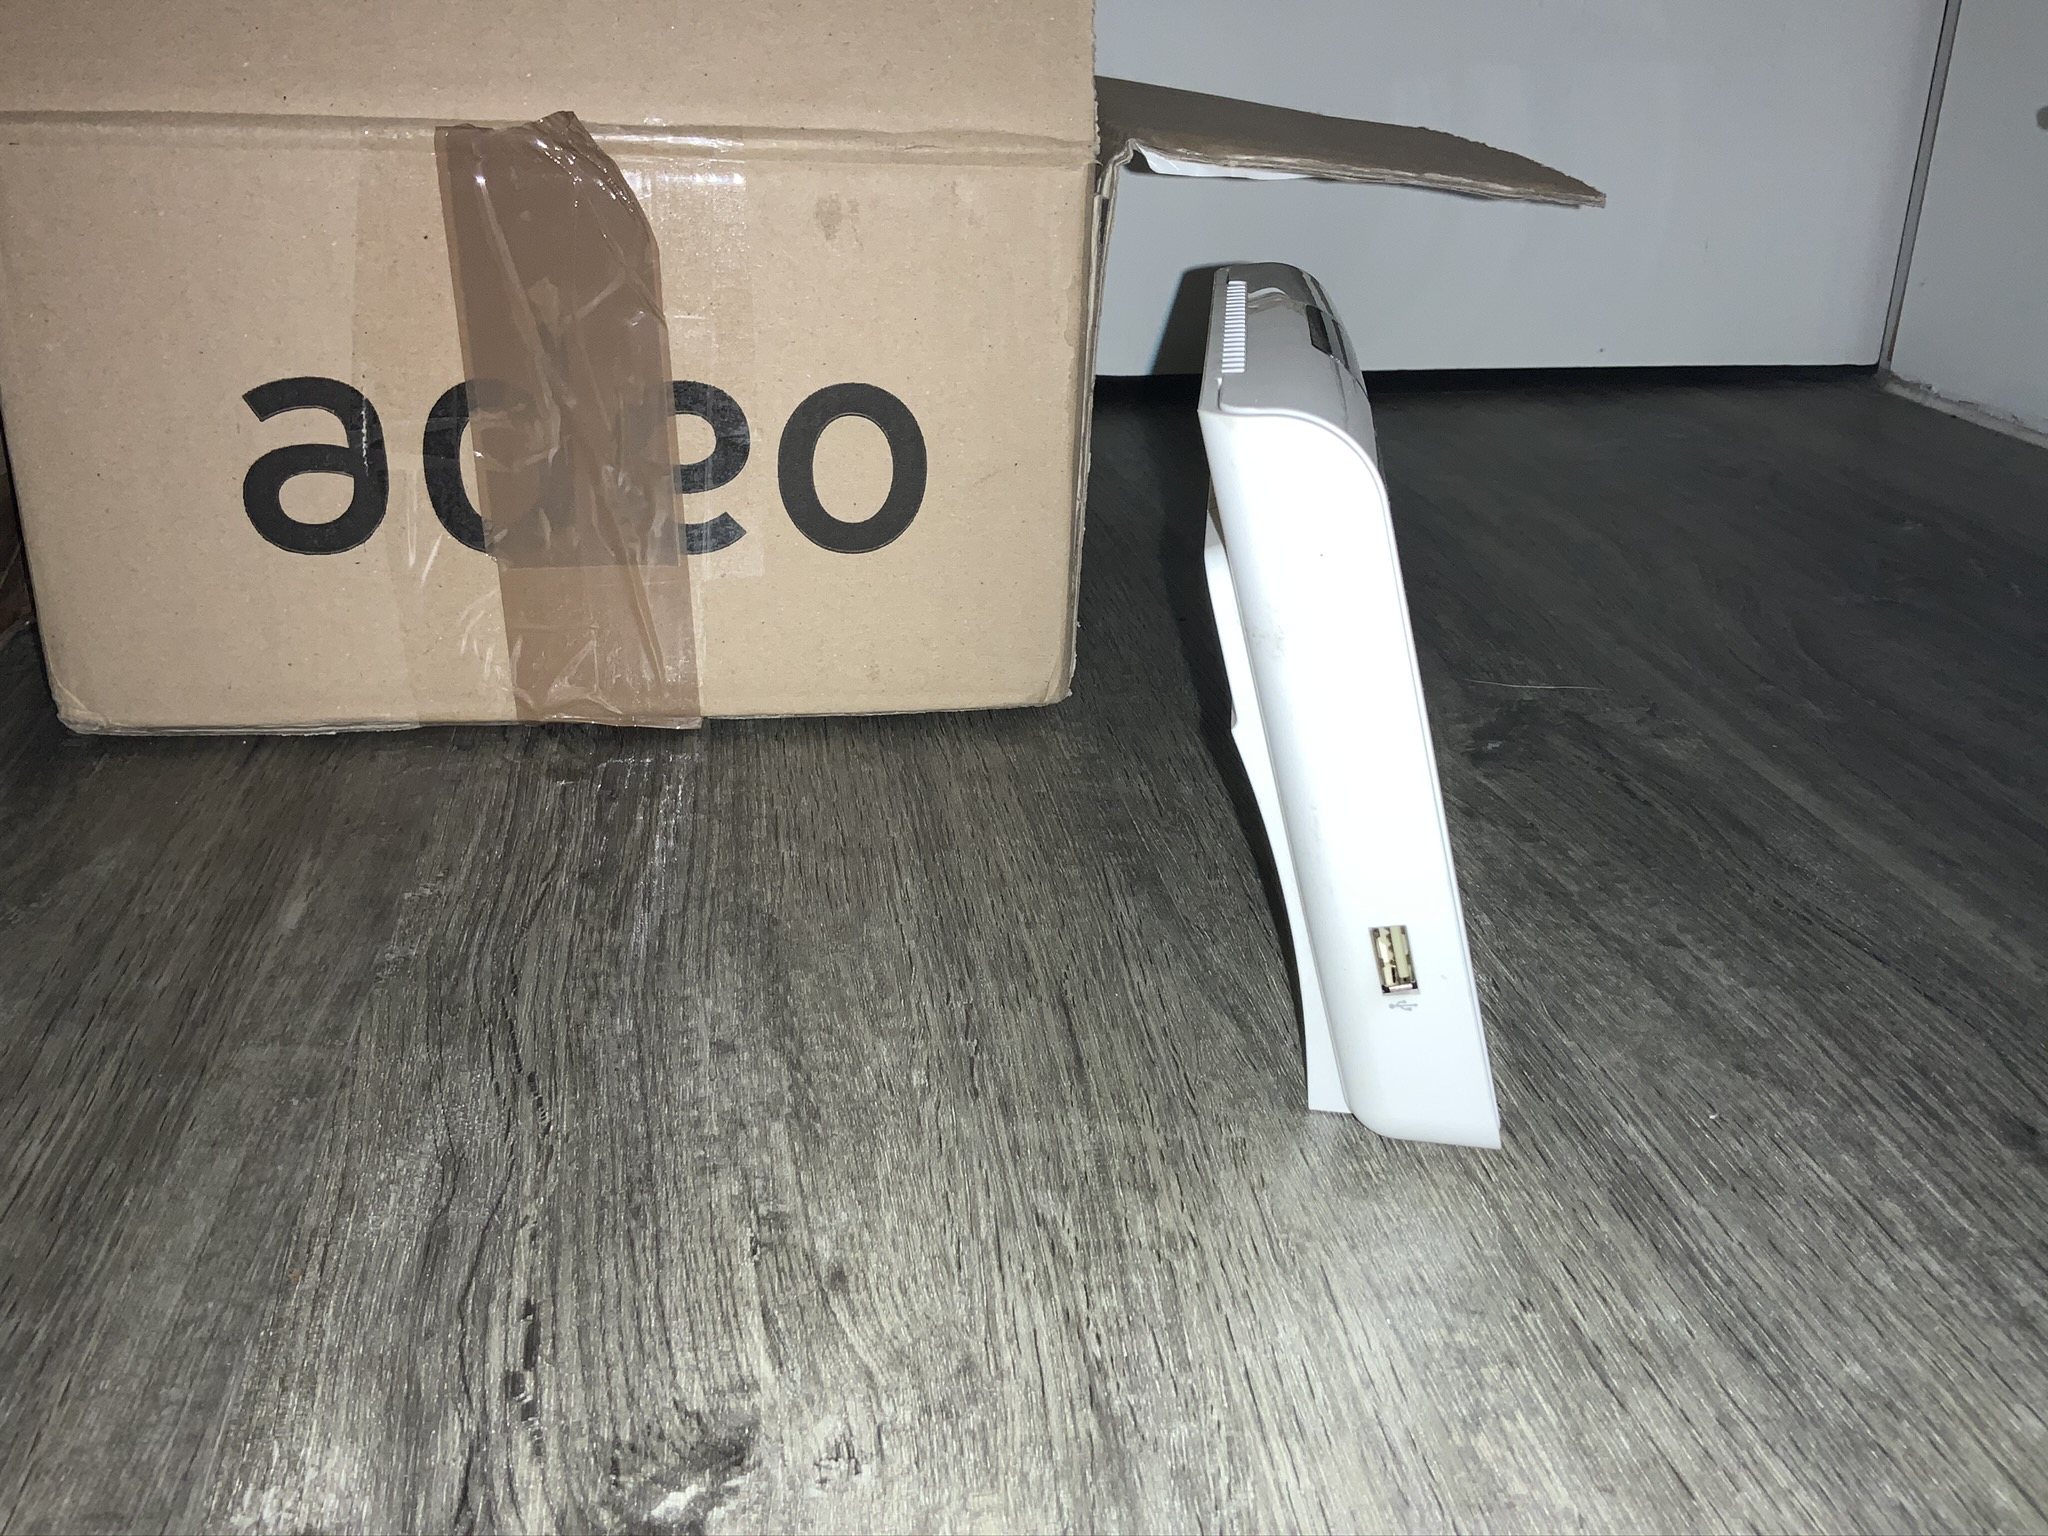Router2: (1185, 257, 1514, 1163)
